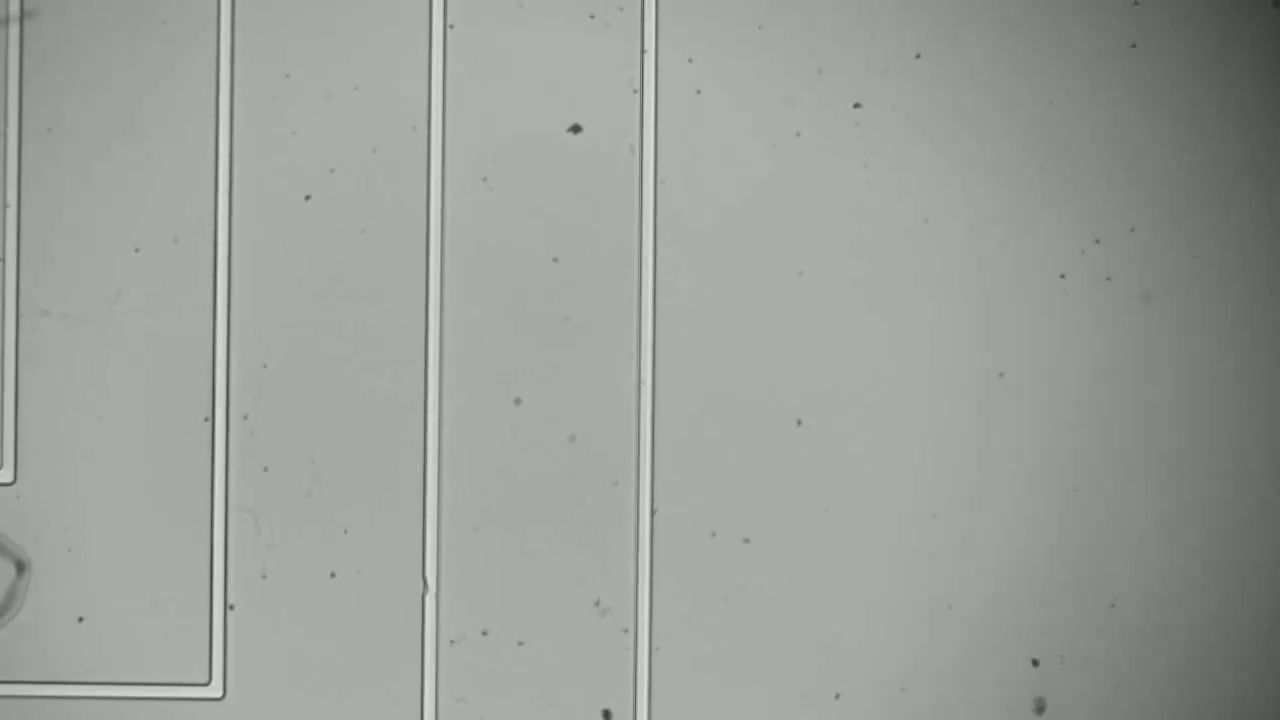edge_bite: (414, 568, 445, 599)
